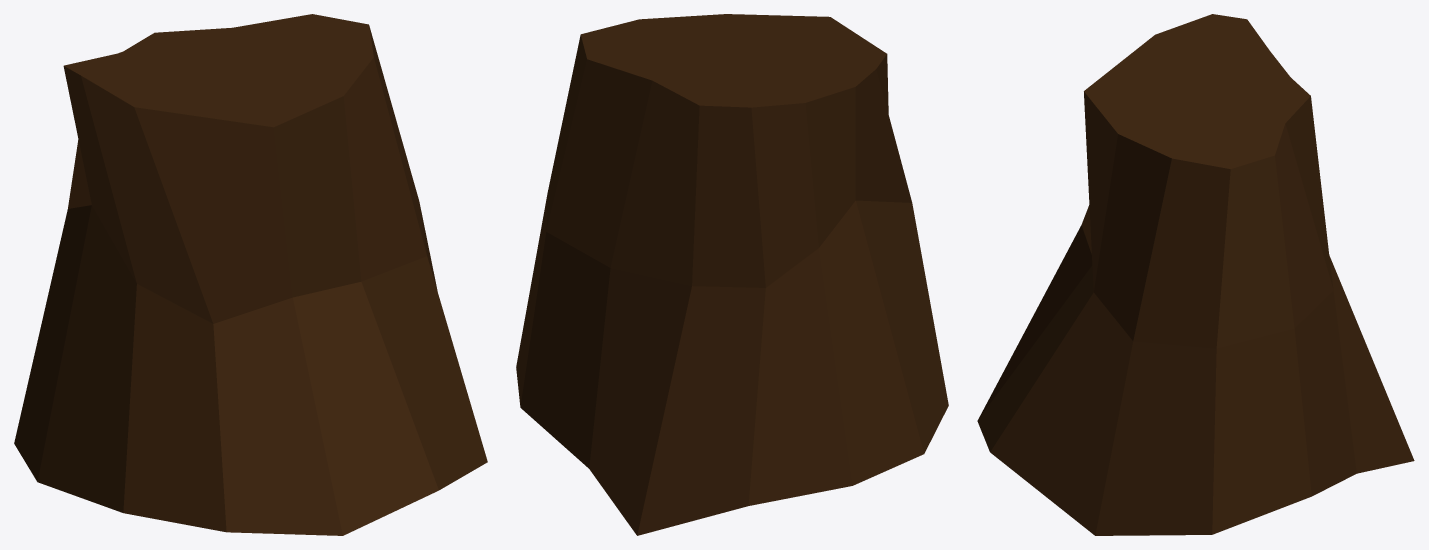
Rendered from Treestomp_02.fbx.
3 views of the same model, side by side, from view 1: azimuth 30°, elevation 25°; view 2: azimuth 150°, elevation 25°; view 3: azimuth 270°, elevation 25° (orthographic). The views are drawn at different scales.
Parts seen in each view (by area): view 1: Cylinder.003; view 2: Cylinder.003; view 3: Cylinder.003.
Part boxes in pixels (left/top/right/bottom): Cylinder.003: left=14, top=14, right=487, bottom=535; Cylinder.003: left=516, top=14, right=948, bottom=535; Cylinder.003: left=977, top=14, right=1414, bottom=535.
Size of the model in its own units: 246 by 243 by 248.
